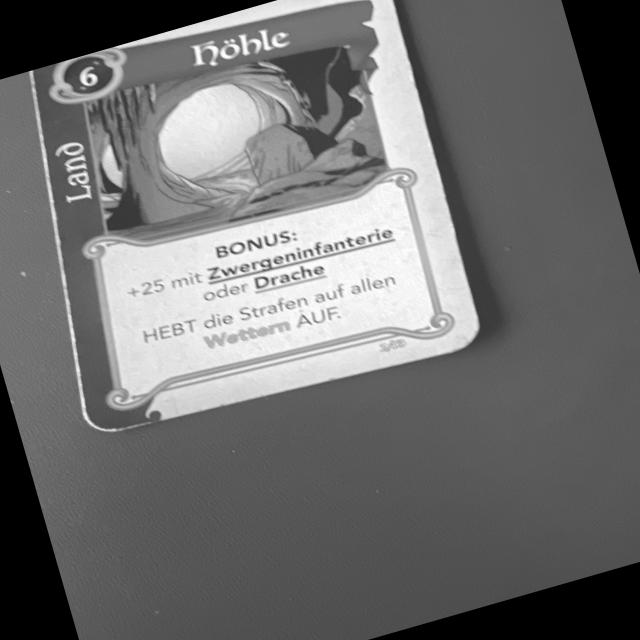Underground Caverns: (26, 0, 489, 444)
